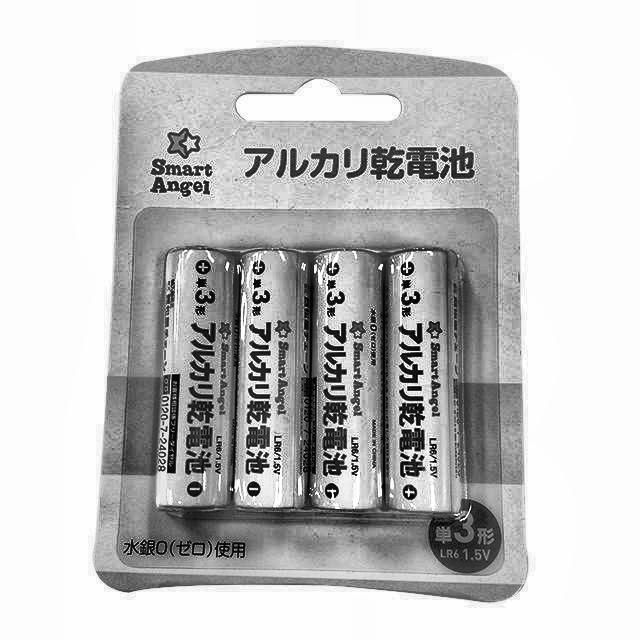drycell: (152, 242, 240, 521), (234, 245, 309, 514)
